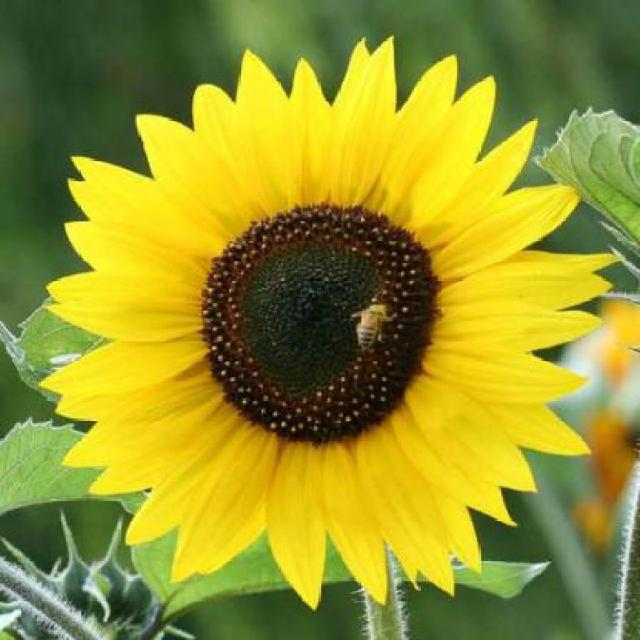sunflower: (56, 49, 589, 617)
